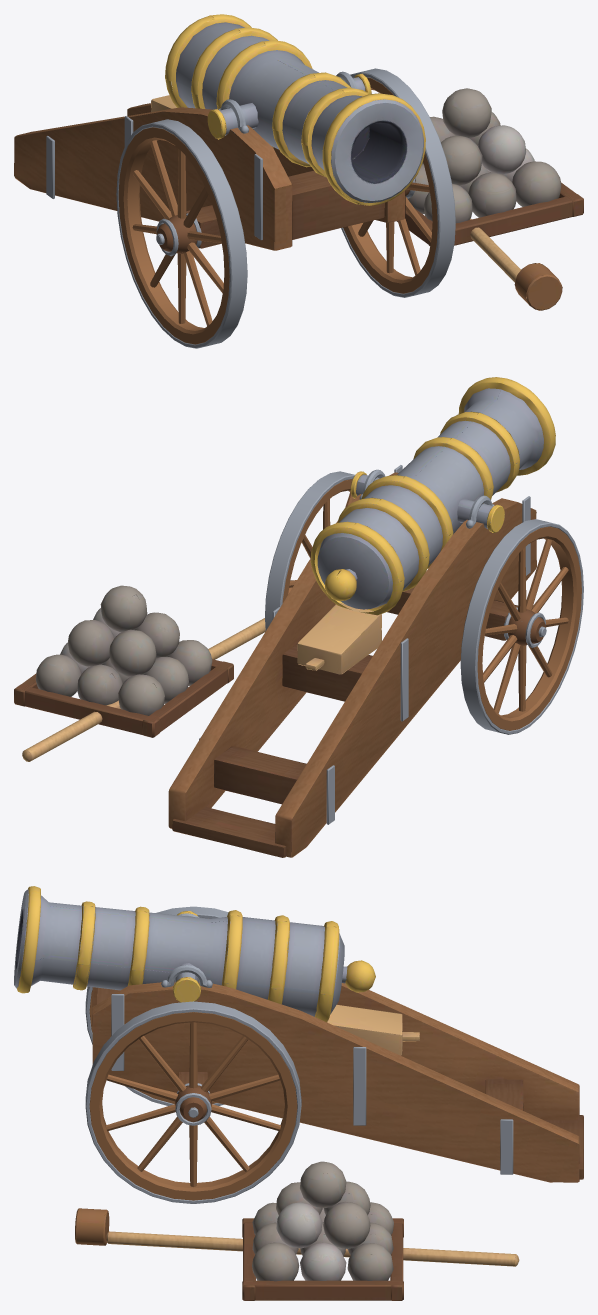
The model's file is canon_medieval.glb.
The picture shows the model from 3 angles, top to bottom: view 1: azimuth 30°, elevation 25°; view 2: azimuth 150°, elevation 25°; view 3: azimuth 270°, elevation 25°; orthographic projection. The views are drawn at different scales.
Visible parts, largest first — view 1: medieval-cannon_barrel; view 2: medieval-cannon_barrel; view 3: medieval-cannon_barrel.
Part boxes in pixels (left/top/right/bottom): medieval-cannon_barrel: left=14, top=14, right=583, bottom=348; medieval-cannon_barrel: left=14, top=377, right=583, bottom=857; medieval-cannon_barrel: left=14, top=886, right=583, bottom=1300.
Bounding box in the file's own units: 2.26 × 1.34 × 2.64.
6 materials, 2 textured.
